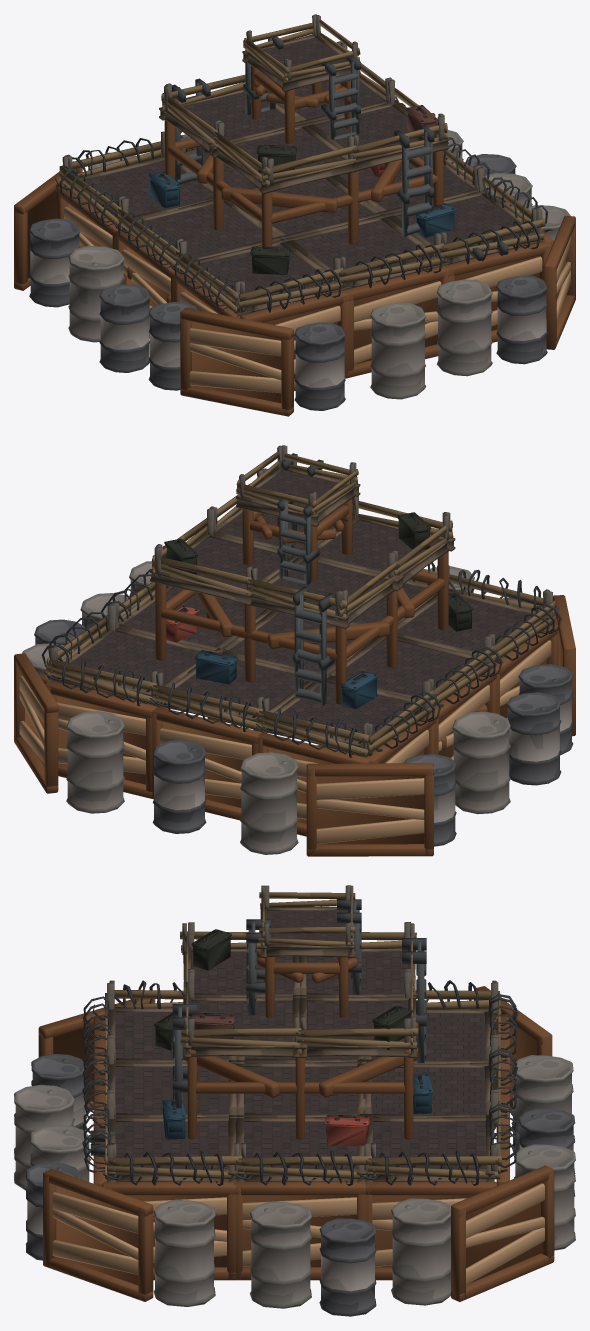
The model's file is SmallBase.fbx.
3 views of the same model, one above another, from view 1: azimuth 30°, elevation 25°; view 2: azimuth 150°, elevation 25°; view 3: azimuth 270°, elevation 25° (orthographic). The views are drawn at different scales.
Visible parts, largest first — view 1: Base.140; view 2: Base.140; view 3: Base.140.
Part boxes in pixels (x1=…): Base.140: x1=14, y1=14, x2=575, y2=416; Base.140: x1=14, y1=445, x2=575, y2=856; Base.140: x1=14, y1=885, x2=575, y2=1316.
Bounding box in the file's own units: 13.45 × 7.51 × 12.99.
3 materials, 1 textured.
